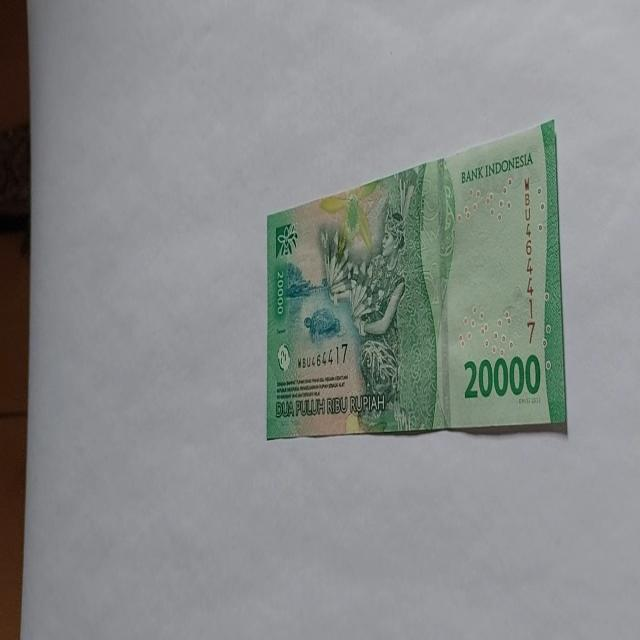dua puluh ribu rupiah: (265, 117, 567, 442)
